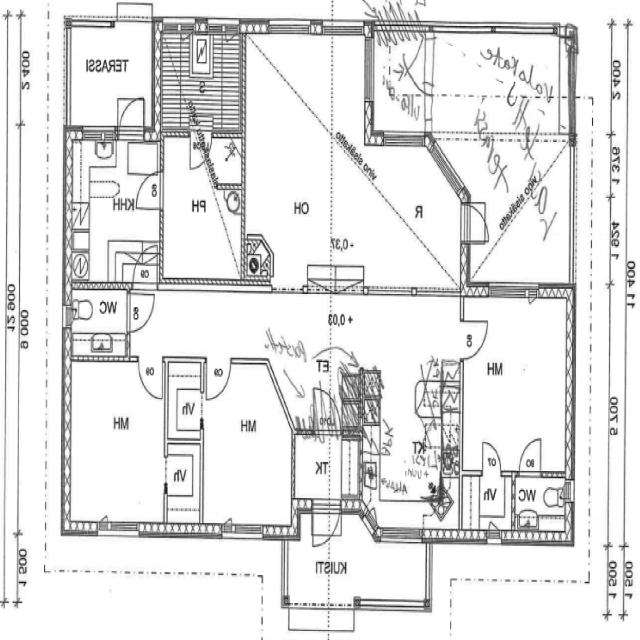door: (388, 36, 430, 96), (312, 500, 341, 560), (119, 87, 145, 143), (132, 244, 158, 290), (461, 206, 494, 242), (127, 294, 156, 334), (138, 359, 163, 402), (461, 321, 488, 359), (207, 359, 230, 402), (137, 175, 163, 209), (520, 438, 542, 477), (190, 133, 212, 172), (482, 442, 501, 476)
